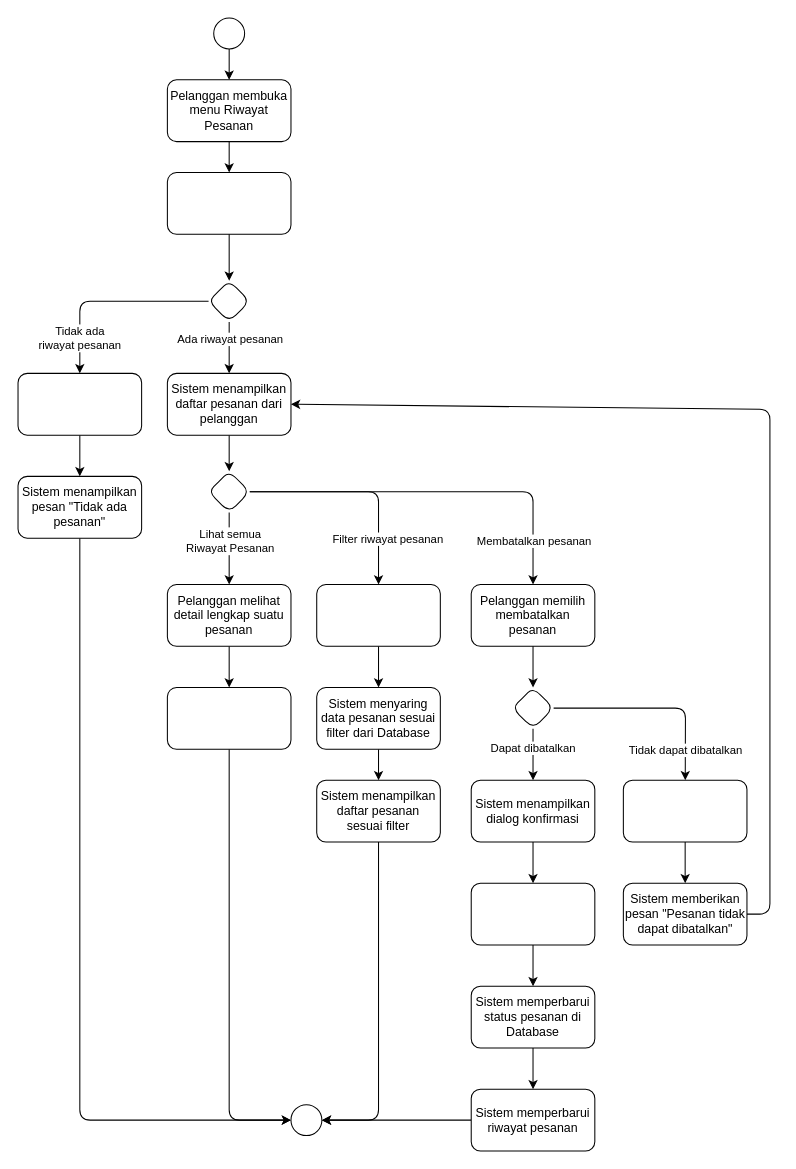
This 796x1169 diagram has some shape labels left out. Here are the shapes that lost their labels. From the top down, the centre of each, then its label:
pixel 228 202: Sistem mengambil data pesanan dari pelanggan
pixel 79 403: Sistem tidak menemukan Riwayat Pesanan Pelanggan
pixel 378 614: Pelanggan memfilter pesanan berdasarkan status
pixel 228 717: Sistem menampilkan detail pesanan yang dipilih
pixel 684 810: Sistem mendeteksi status pesanan tidak dapat dibatalkan
pixel 532 913: Pelanggan menekan "Ya"
